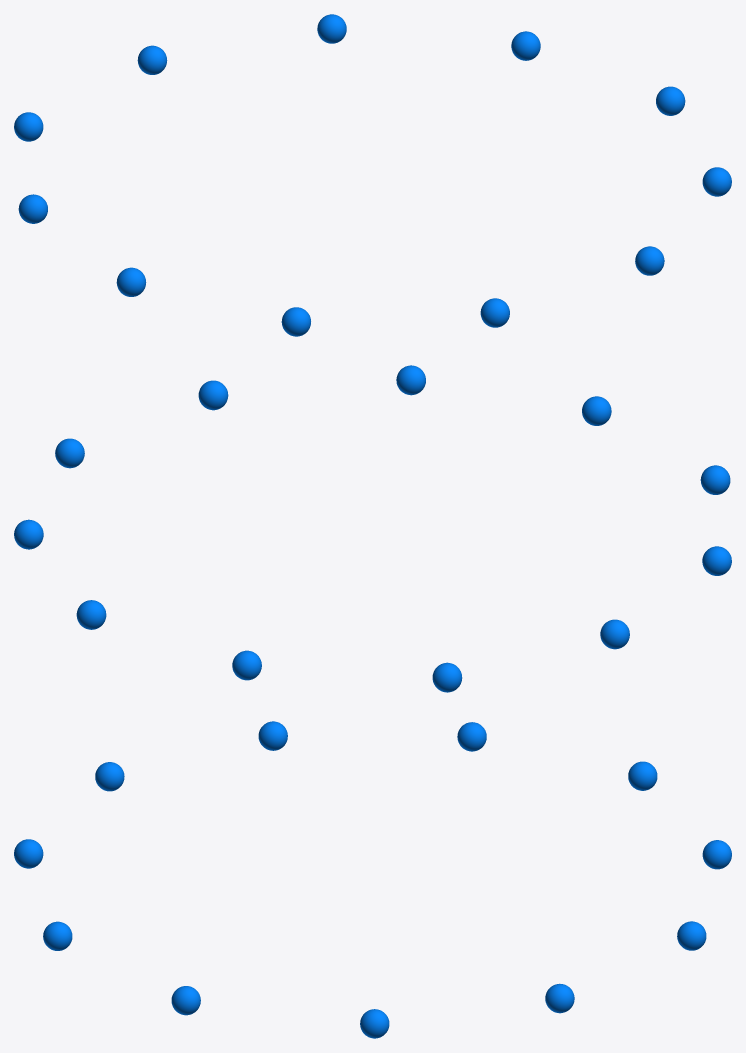
The picture shows the model from 3 angles, top to bottom: view 1: azimuth 30°, elevation 25°; view 2: azimuth 150°, elevation 25°; view 3: azimuth 270°, elevation 25°; orthographic projection.
Parts seen in each view (by area): view 1: Sphere052; view 2: Sphere052; view 3: Sphere052.
Boxes of the visible parts, x1,y1,x2,y2 form: Sphere052: (14, 14, 731, 336); Sphere052: (14, 365, 731, 692); Sphere052: (14, 721, 731, 1038).
Size of the model in its own units: 198 by 8.22 by 200.
